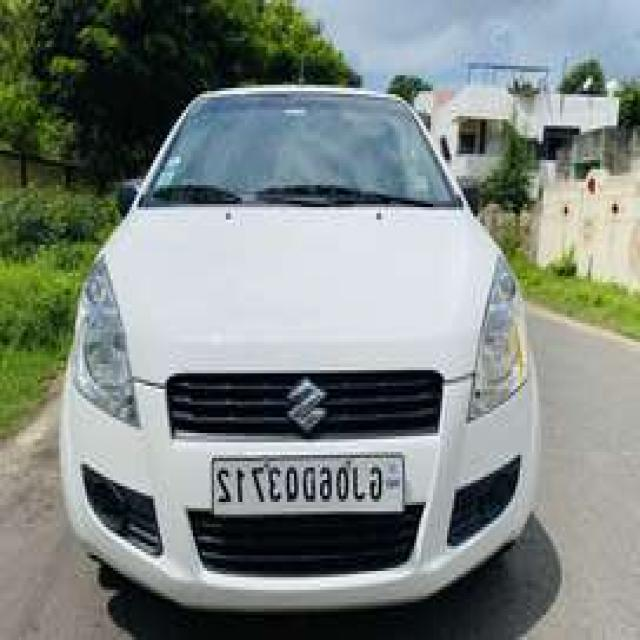license_plate: (206, 446, 409, 522)
